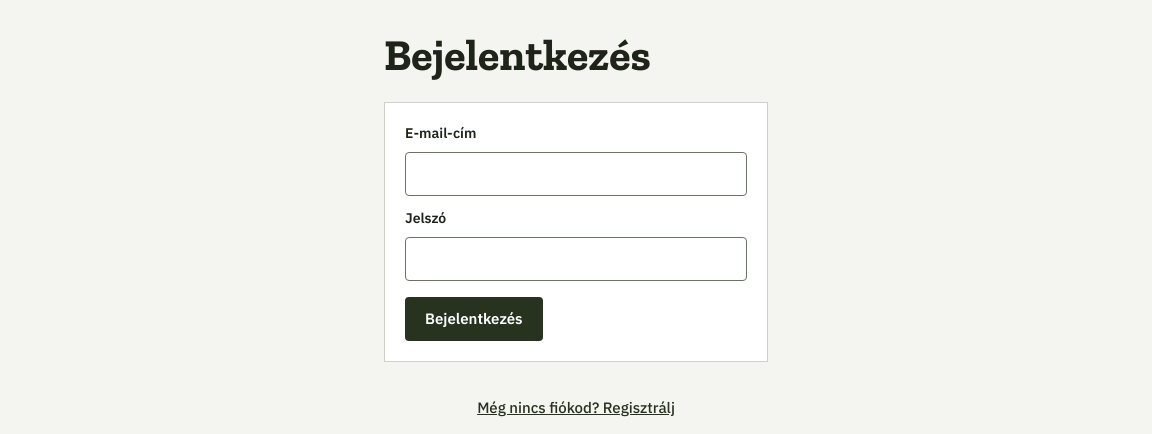
Test case: navigation › returns to the same page after signing in again
The width and height of the screenshot is (1152, 434).
In the field labelled "E-mail-cím": coordinates (576, 174) [405, 152, 747, 196], type "tomi@example.com"
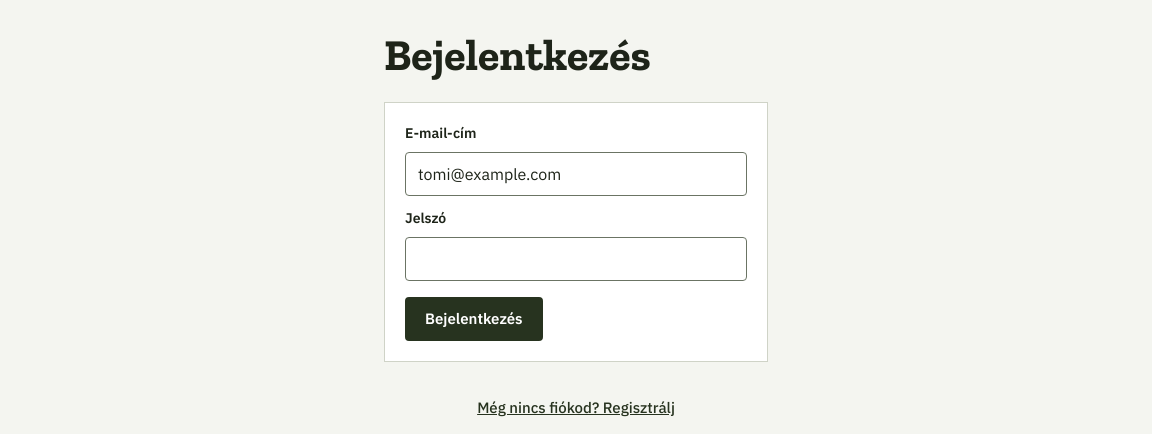
In the password field labelled "Jelszó": coordinates (576, 259) [405, 237, 747, 281], type "correct horse battery staple"
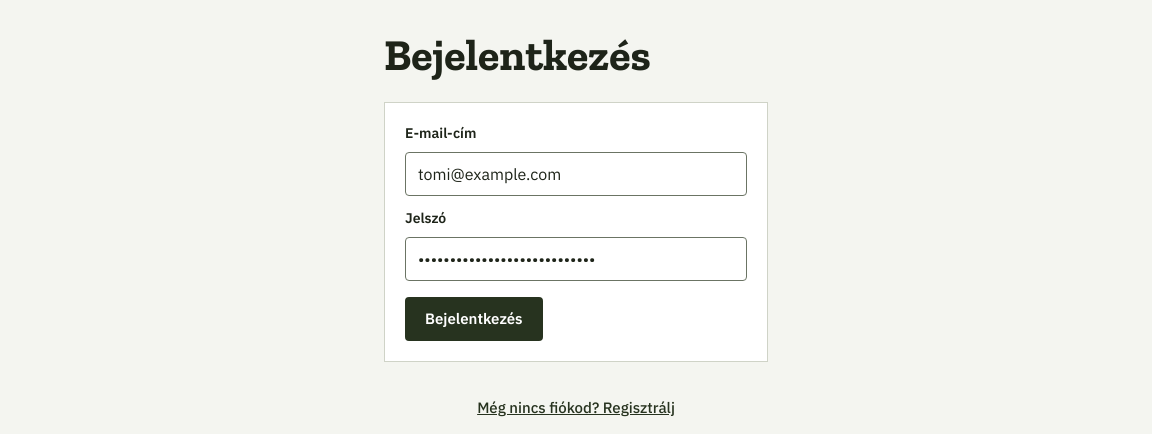
Click the button "Bejelentkezés": coordinates (474, 319) [405, 297, 543, 341]
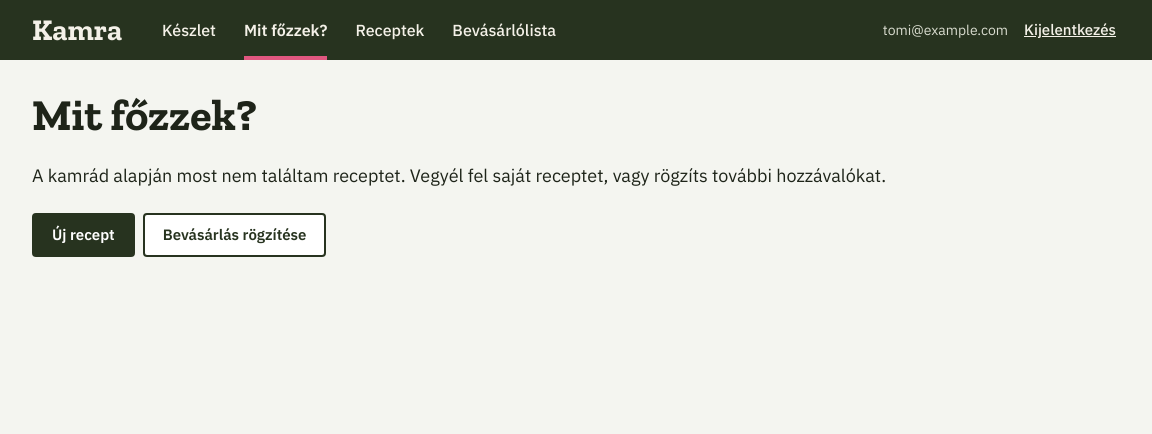
Expected: the heading "Mit főzzek?" is shown, [32, 88, 257, 141]
